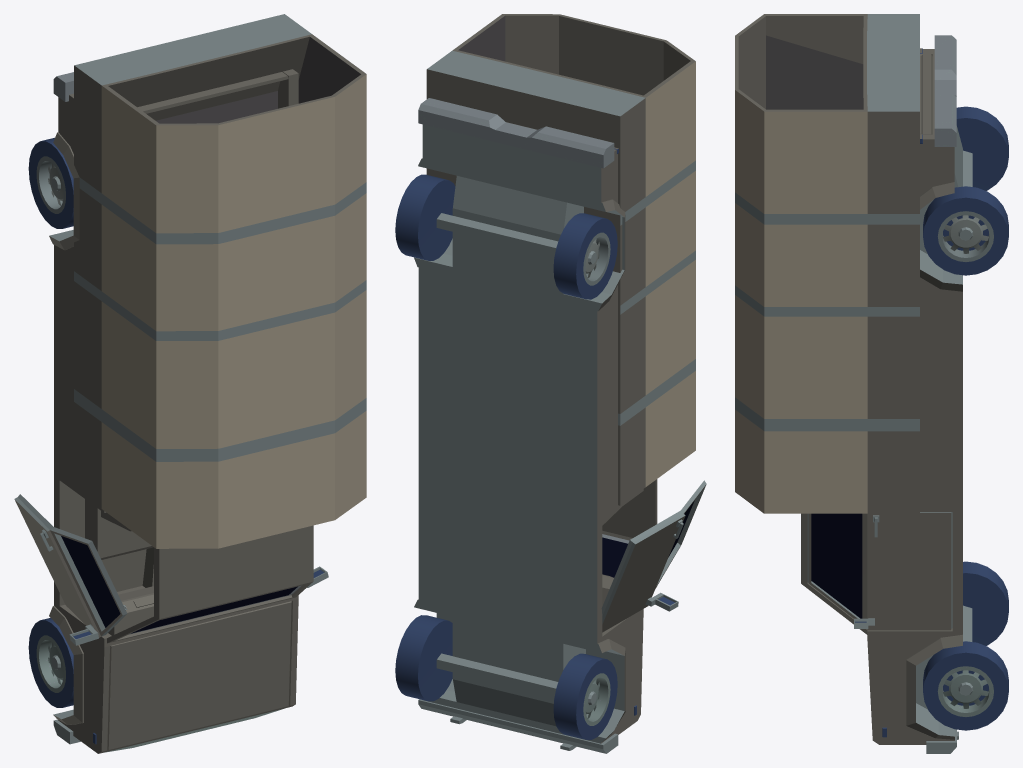
The model's file is 251_car_armyTruck.gltf.
3 renders of one model, left to right at view 1: azimuth 30°, elevation 25°; view 2: azimuth 150°, elevation 25°; view 3: azimuth 270°, elevation 25°, orthographic. The views are drawn at different scales.
Parts seen in each view (by area): view 1: car_armyTruck; view 2: car_armyTruck; view 3: car_armyTruck.
Boxes of the visible parts, x1=… form: car_armyTruck: x1=14, y1=14, x2=366, y2=753; car_armyTruck: x1=395, y1=14, x2=706, y2=753; car_armyTruck: x1=735, y1=14, x2=1008, y2=753.
Size of the model in its own units: 7.61 by 18.39 by 7.02.
1 material, 1 textured.
